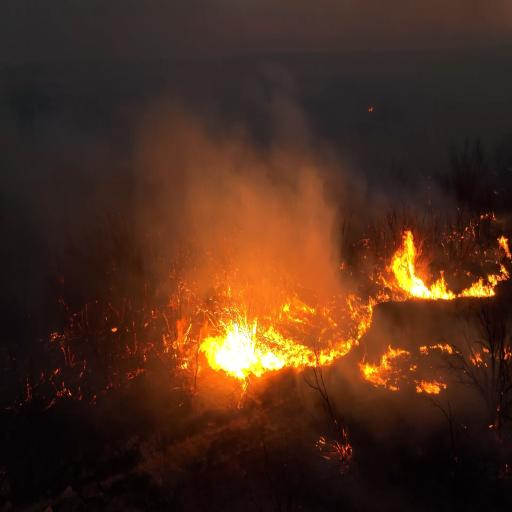fire: (203, 299, 291, 382), (283, 307, 352, 377), (387, 216, 425, 294)
smoke: (140, 81, 338, 300)
